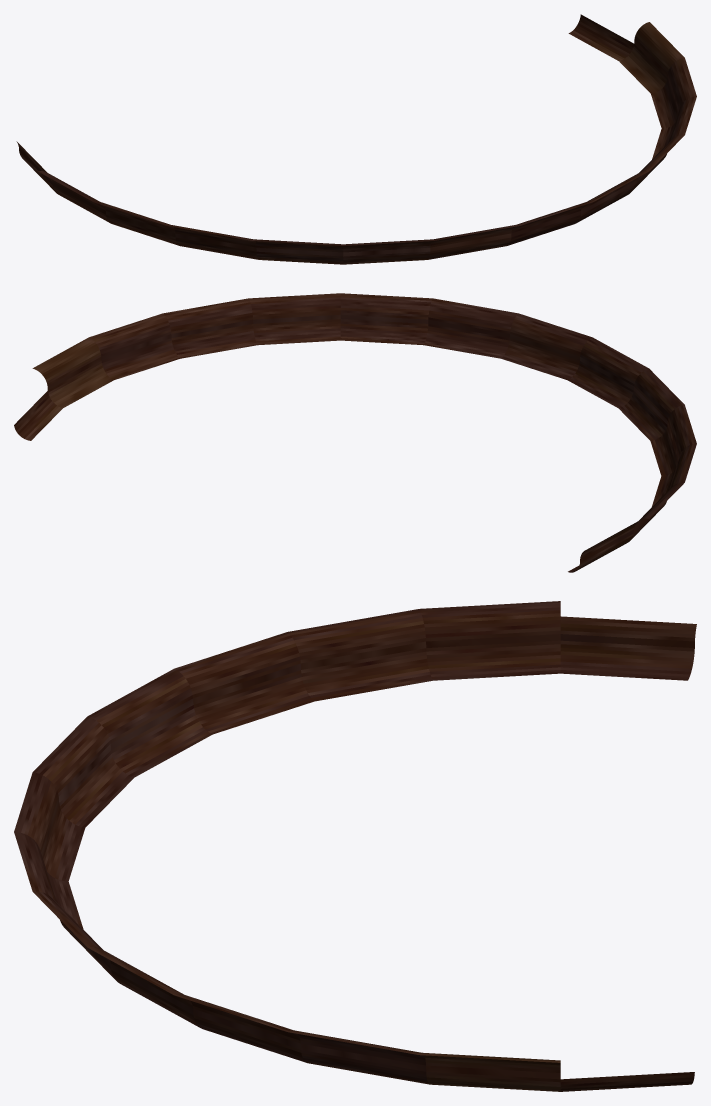
The model's file is original-58.obj.
The picture shows the model from 3 angles, top to bottom: view 1: azimuth 30°, elevation 25°; view 2: azimuth 150°, elevation 25°; view 3: azimuth 270°, elevation 25°; orthographic projection. The views are drawn at different scales.
Parts seen in each view (by area): view 1: mesh147/mesh147-geometry#mesh147-geometry; view 2: mesh147/mesh147-geometry#mesh147-geometry; view 3: mesh147/mesh147-geometry#mesh147-geometry.
Part boxes in pixels (x1=…): mesh147/mesh147-geometry#mesh147-geometry: x1=16, y1=14, x2=696, y2=264; mesh147/mesh147-geometry#mesh147-geometry: x1=14, y1=293, x2=696, y2=572; mesh147/mesh147-geometry#mesh147-geometry: x1=14, y1=601, x2=696, y2=1091.
Size of the model in its own units: 0.1496 by 0.00748 by 0.0935.
